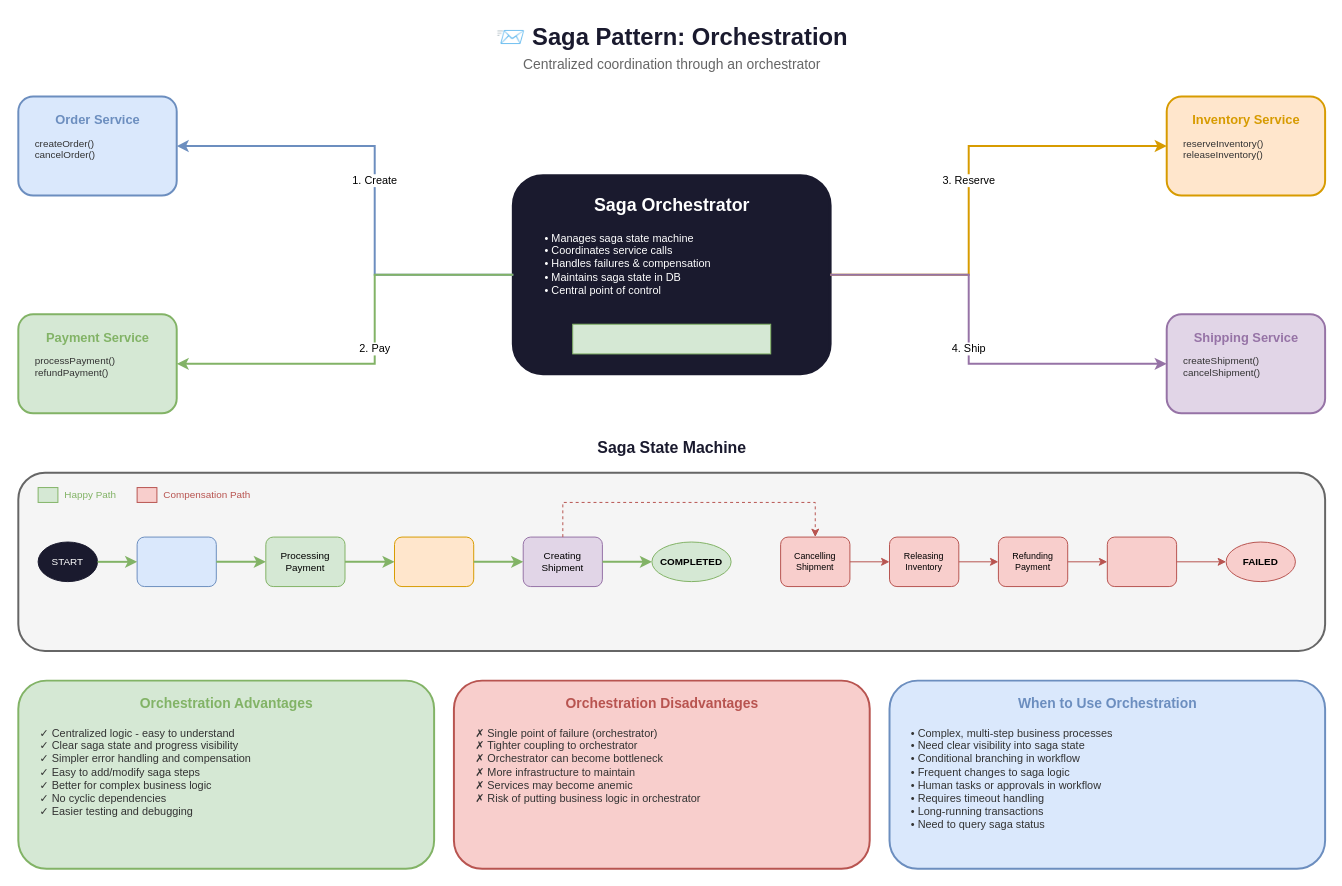
Some shapes in this 1342 by 886 pixel diagram are drawn without their labels. Each missing label, with the box of its shape:
Cancelling Order: (1106, 536, 1177, 587)
Creating Order: (136, 536, 216, 587)
Reserving Inventory: (394, 536, 474, 587)
State: PROCESSING: (572, 323, 771, 354)
